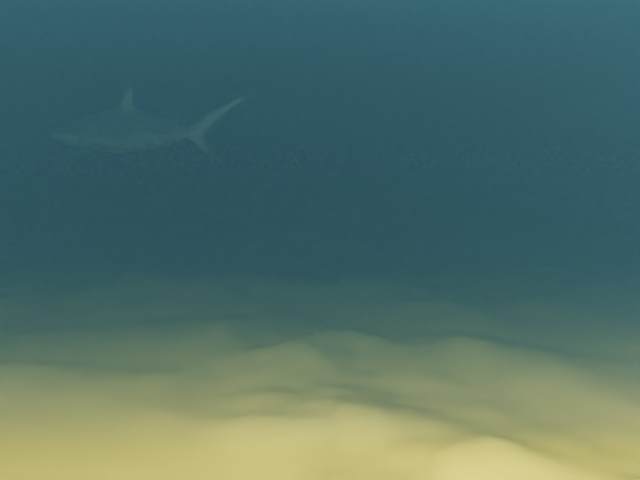Carribean Shark.001: (49, 82, 255, 159)
